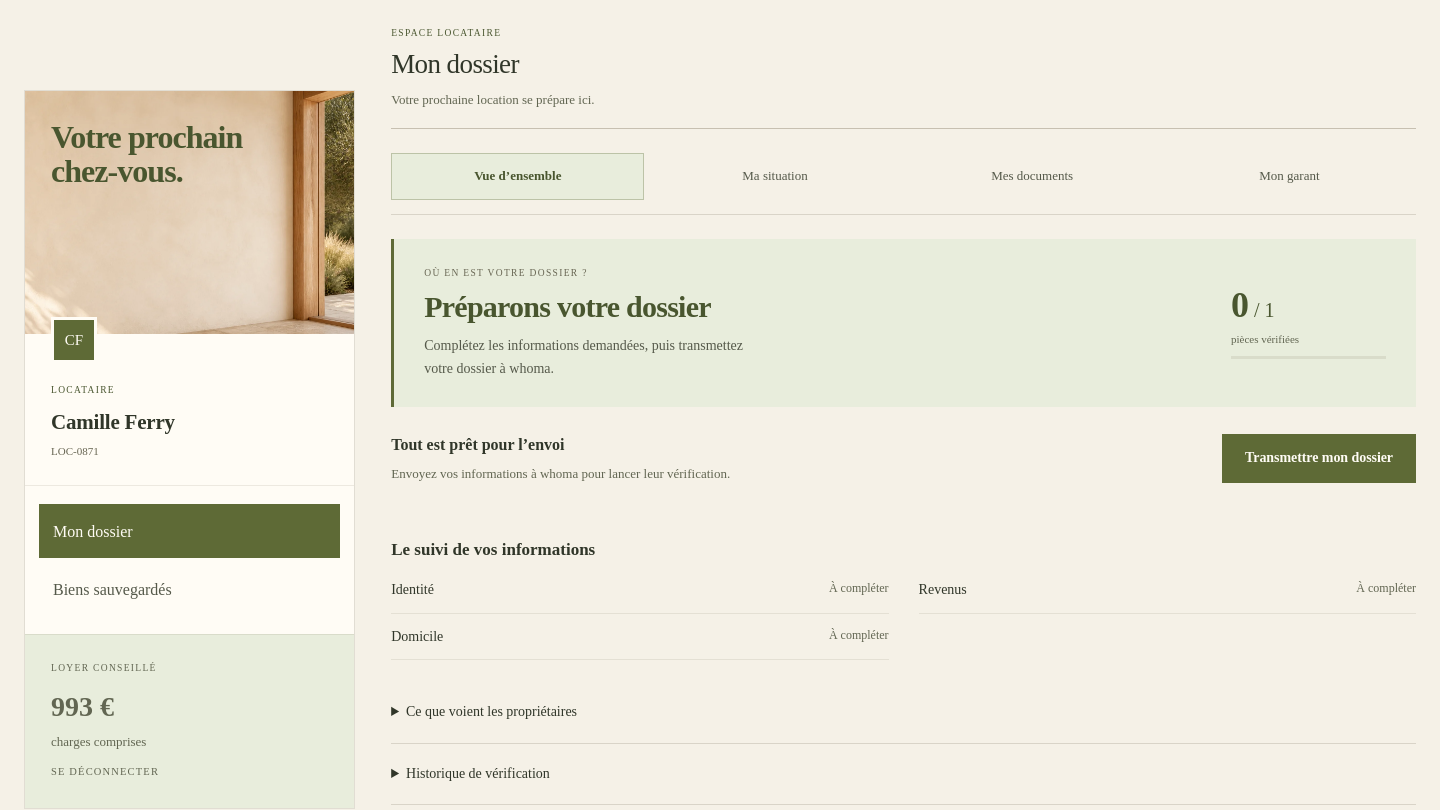
it: Dossier locataire par rubriques › transmet un dossier complet et affiche le statut renvoyé
Click the button "Transmettre mon dossier". click: (1319, 458)
box: [1222,434,1416,483]
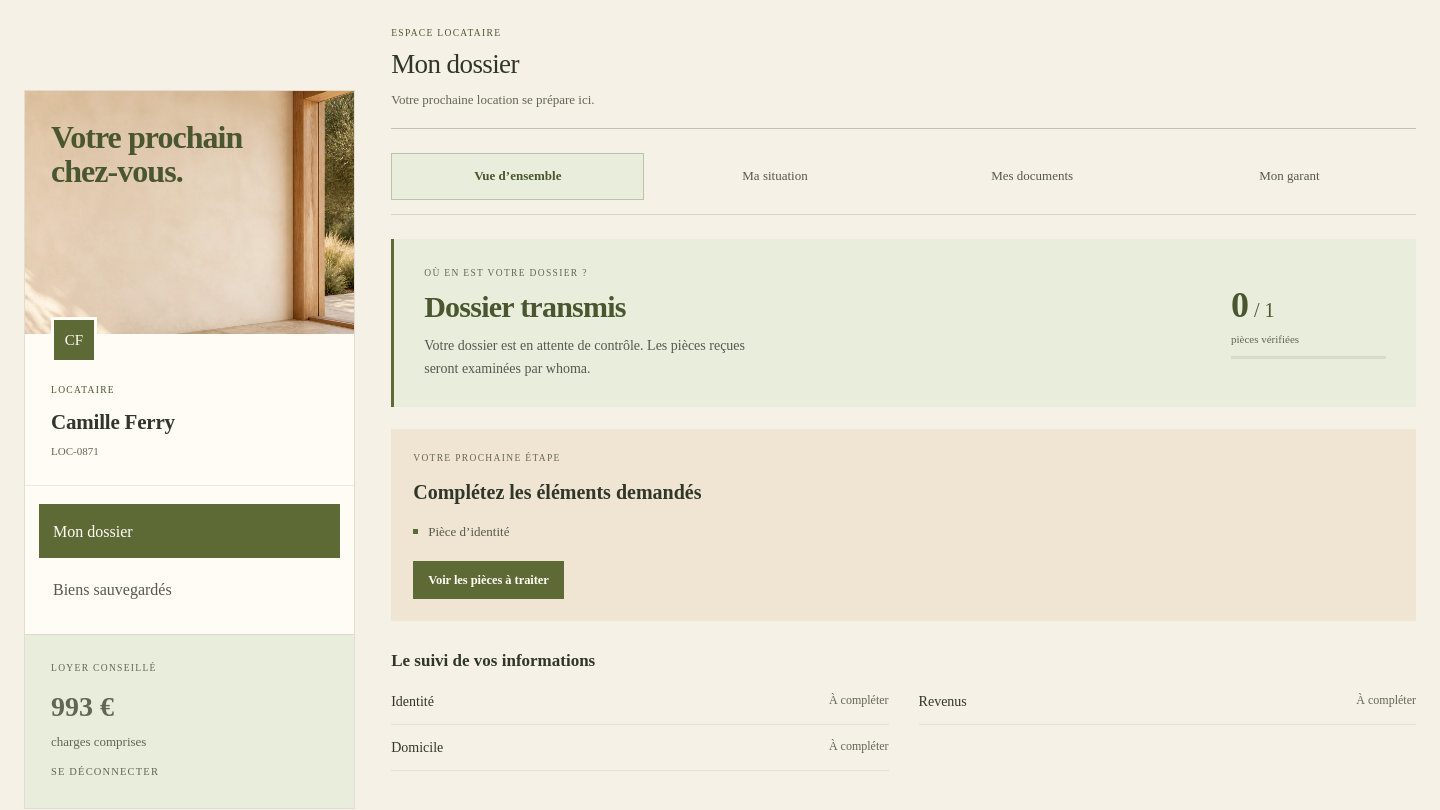
Expected: the heading "Dossier transmis" is shown, [424,290,626,323]
Expected: the button "Transmettre mon dossier" is gone
